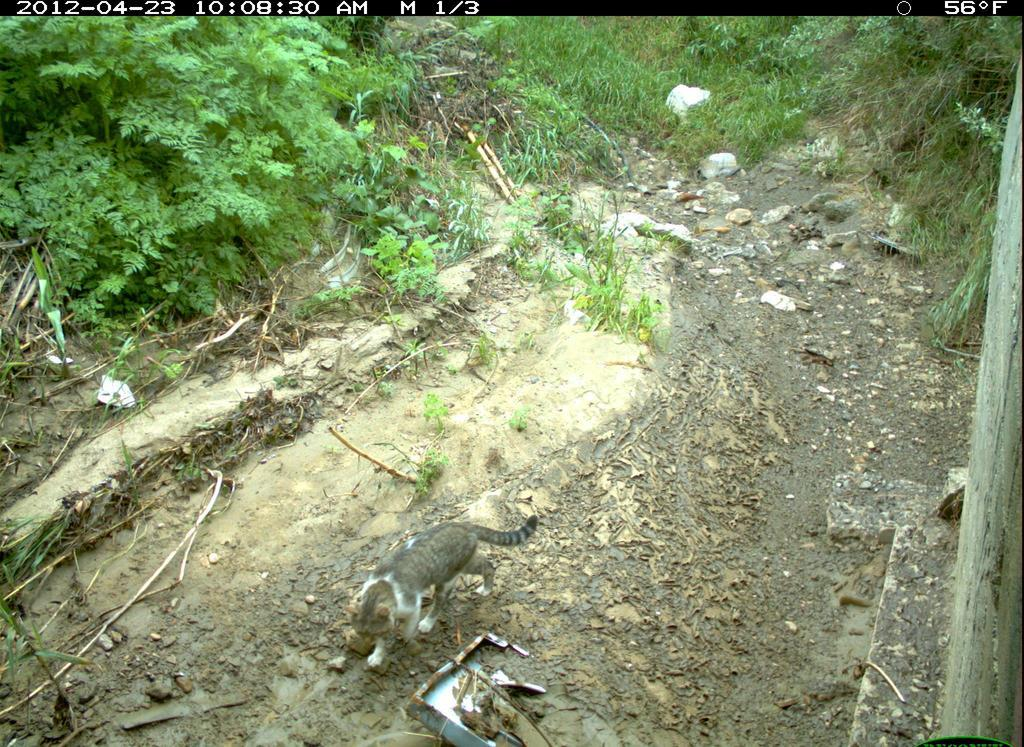cat: (345, 515, 541, 669)
